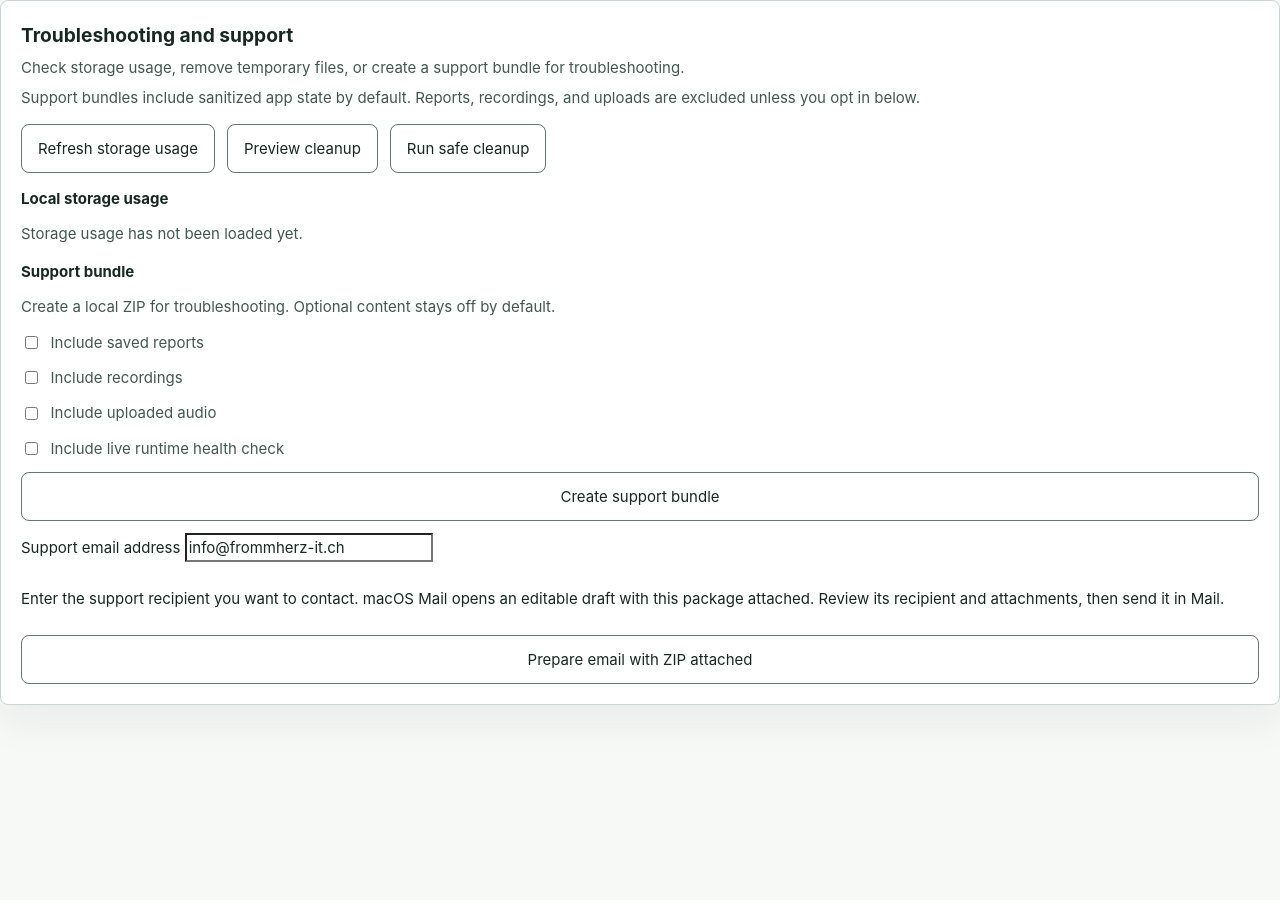
Test: does not claim a native save on an older desktop bridge
This screenshot has width=1280, height=900.
Click the button with test id "settings.support_create_bundle" at x=640, y=497, box top-left (21, 472), bottom-right (1259, 521)
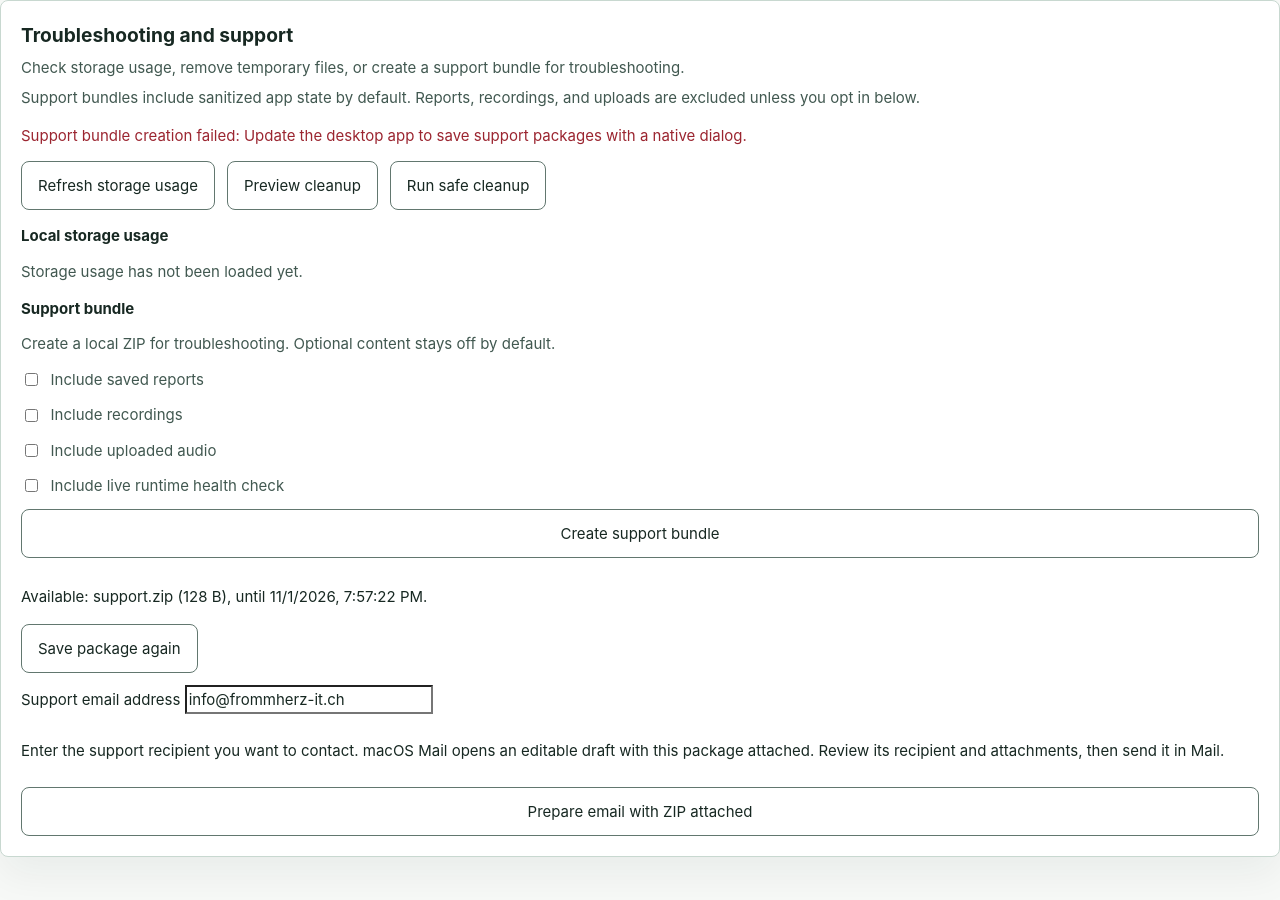
Check: the message shows "Update the desktop app", box top-left (21, 126), bottom-right (747, 145)
